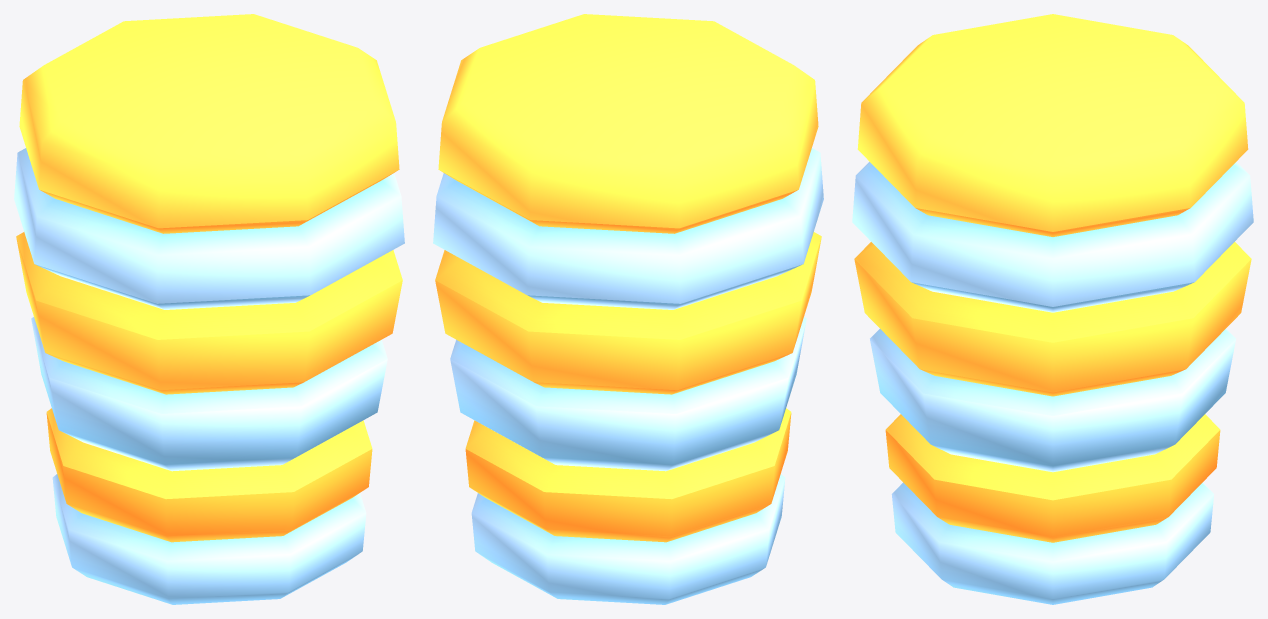
Rendered from gold_and_steel_grip_055.glb.
The picture shows the model from 3 angles, left to right: view 1: azimuth 30°, elevation 25°; view 2: azimuth 150°, elevation 25°; view 3: azimuth 270°, elevation 25°; orthographic projection.
Parts seen in each view (by area): view 1: gold_and_steel_grip_055; view 2: gold_and_steel_grip_055; view 3: gold_and_steel_grip_055.
Part boxes in pixels (bbox=[...]): gold_and_steel_grip_055: bbox=[14, 14, 404, 604]; gold_and_steel_grip_055: bbox=[433, 14, 823, 604]; gold_and_steel_grip_055: bbox=[852, 14, 1253, 604].
Bounding box in the file's own units: 2.37 × 3 × 2.37.
1 material, 1 textured.
